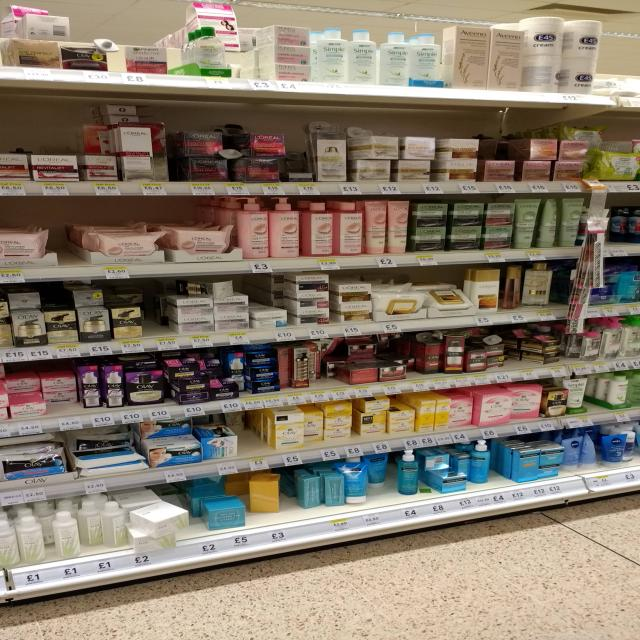empty: (133, 281, 179, 344)
